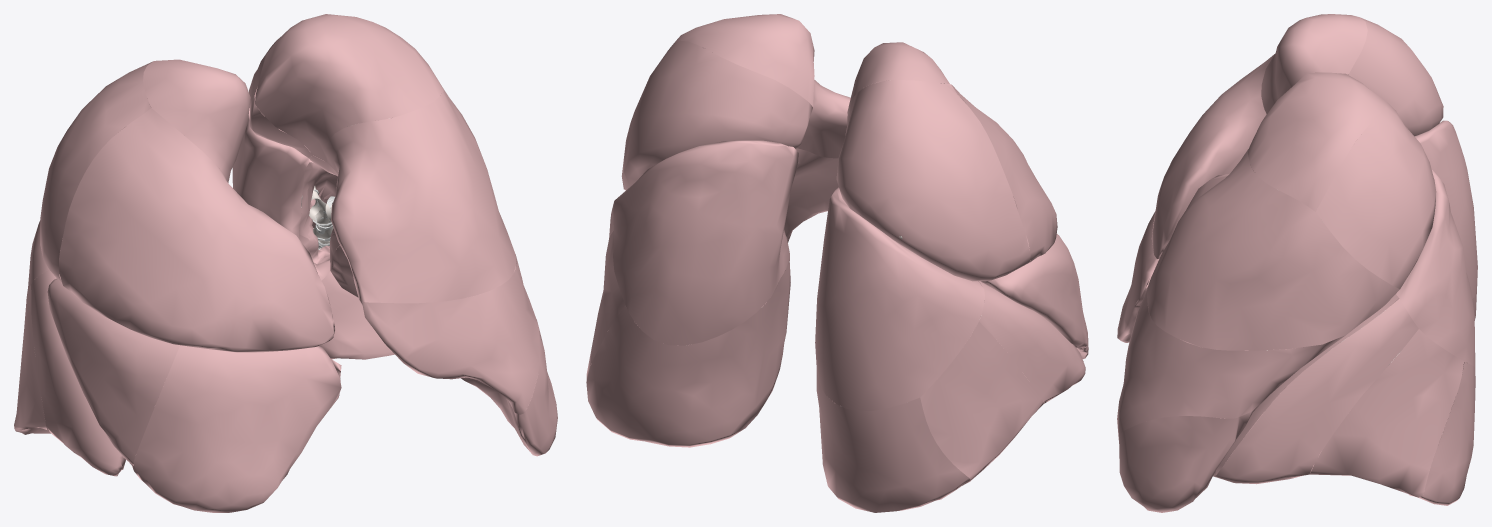
Rendered from 3d-vh-m-lung-40.fbx.
The picture shows the model from 3 angles, left to right: view 1: azimuth 30°, elevation 25°; view 2: azimuth 150°, elevation 25°; view 3: azimuth 270°, elevation 25°; orthographic projection. The views are drawn at different scales.
Visible parts, largest first — view 1: VH_M_right_anterior_bronchopulmonary_segment, VH_M_left_anterior_bronchopulmonary_segment, VH_M_right_medial_bronchopulmonary_segment, VH_M_left_apical_bronchopulmonary_segment, VH_M_left_lingula_superior_bronchopulmonary_segment, VH_M_right_lateral_bronchopulmonary_segment, VH_M_right_apical_bronchopulmonary_segment, VH_M_right_posterior_bronchopulmonary_segment, VH_M_right_anterior_basal_bronchopulmonary_segment, VH_M_left_superior_bronchopulmonary_segment, VH_M_left_lingula_inferior_bronchopulmonary_segment, VH_M_left_medial_basal_bronchopulmonary_segment (+5 smaller); view 2: VH_M_left_superior_bronchopulmonary_segment, VH_M_right_posterior_bronchopulmonary_segment, VH_M_right_superior_bronchopulmonary_segment, VH_M_left_posetrior_basal_bronchopulmonary_segment, VH_M_left_posterior_bronchopulmonary_segment, VH_M_right_posterior_basal_bronchopulmonary_segment, VH_M_right_lateral_basal_bronchopulmonary_segment, VH_M_left_apical_bronchopulmonary_segment, VH_M_right_anterior_basal_bronchopulmonary_segment, VH_M_right_lateral_bronchopulmonary_segment, VH_M_right_anterior_bronchopulmonary_segment, VH_M_left_lingula_superior_bronchopulmonary_segment (+3 smaller); view 3: VH_M_left_anterior_bronchopulmonary_segment, VH_M_left_lateral_basal_bronchopulmonary_segment, VH_M_left_posterior_bronchopulmonary_segment, VH_M_left_anterior_basal_bronchopulmonary_segment, VH_M_left_lingula_superior_bronchopulmonary_segment, VH_M_left_apical_bronchopulmonary_segment, VH_M_left_lingula_inferior_bronchopulmonary_segment, VH_M_right_anterior_bronchopulmonary_segment, VH_M_left_superior_bronchopulmonary_segment, VH_M_right_apical_bronchopulmonary_segment, VH_M_right_posterior_bronchopulmonary_segment, VH_M_left_posetrior_basal_bronchopulmonary_segment (+3 smaller).
Part boxes in pixels (bbox=[...]): VH_M_right_anterior_bronchopulmonary_segment: bbox=[59, 108, 335, 352]; VH_M_left_anterior_bronchopulmonary_segment: bbox=[326, 88, 516, 303]; VH_M_right_medial_bronchopulmonary_segment: bbox=[132, 345, 341, 512]; VH_M_left_apical_bronchopulmonary_segment: bbox=[255, 14, 443, 162]; VH_M_left_lingula_superior_bronchopulmonary_segment: bbox=[359, 254, 539, 414]; VH_M_right_lateral_bronchopulmonary_segment: bbox=[47, 278, 179, 465]; VH_M_right_apical_bronchopulmonary_segment: bbox=[143, 59, 250, 182]; VH_M_right_posterior_bronchopulmonary_segment: bbox=[40, 61, 152, 284]; VH_M_right_anterior_basal_bronchopulmonary_segment: bbox=[31, 270, 125, 476]; VH_M_left_superior_bronchopulmonary_segment: bbox=[232, 89, 323, 238]; VH_M_left_lingula_inferior_bronchopulmonary_segment: bbox=[330, 245, 557, 456]; VH_M_left_medial_basal_bronchopulmonary_segment: bbox=[319, 271, 394, 359]; VH_M_left_superior_bronchopulmonary_segment: bbox=[613, 140, 798, 345]; VH_M_right_posterior_bronchopulmonary_segment: bbox=[836, 80, 1030, 281]; VH_M_right_superior_bronchopulmonary_segment: bbox=[815, 187, 984, 411]; VH_M_left_posetrior_basal_bronchopulmonary_segment: bbox=[586, 262, 790, 447]; VH_M_left_posterior_bronchopulmonary_segment: bbox=[624, 40, 812, 186]; VH_M_right_posterior_basal_bronchopulmonary_segment: bbox=[816, 370, 970, 512]; VH_M_right_lateral_basal_bronchopulmonary_segment: bbox=[920, 321, 1043, 480]; VH_M_left_apical_bronchopulmonary_segment: bbox=[670, 14, 814, 106]; VH_M_right_anterior_basal_bronchopulmonary_segment: bbox=[970, 281, 1085, 403]; VH_M_right_lateral_bronchopulmonary_segment: bbox=[978, 234, 1087, 349]; VH_M_right_anterior_bronchopulmonary_segment: bbox=[951, 84, 1057, 262]; VH_M_left_lingula_superior_bronchopulmonary_segment: bbox=[624, 148, 838, 240]; VH_M_left_anterior_bronchopulmonary_segment: bbox=[1147, 149, 1399, 350]; VH_M_left_lateral_basal_bronchopulmonary_segment: bbox=[1309, 329, 1464, 497]; VH_M_left_posterior_bronchopulmonary_segment: bbox=[1316, 102, 1436, 288]; VH_M_left_anterior_basal_bronchopulmonary_segment: bbox=[1213, 299, 1418, 484]; VH_M_left_lingula_superior_bronchopulmonary_segment: bbox=[1117, 276, 1396, 434]; VH_M_left_apical_bronchopulmonary_segment: bbox=[1247, 72, 1386, 211]; VH_M_left_lingula_inferior_bronchopulmonary_segment: bbox=[1118, 349, 1286, 512]; VH_M_right_anterior_bronchopulmonary_segment: bbox=[1151, 54, 1274, 259]; VH_M_left_superior_bronchopulmonary_segment: bbox=[1395, 168, 1475, 366]; VH_M_right_apical_bronchopulmonary_segment: bbox=[1261, 14, 1367, 113]; VH_M_right_posterior_bronchopulmonary_segment: bbox=[1348, 17, 1443, 136]; VH_M_left_posetrior_basal_bronchopulmonary_segment: bbox=[1319, 302, 1475, 505].
Bounding box in the file's own units: 25.95 × 22.91 × 18.97.
